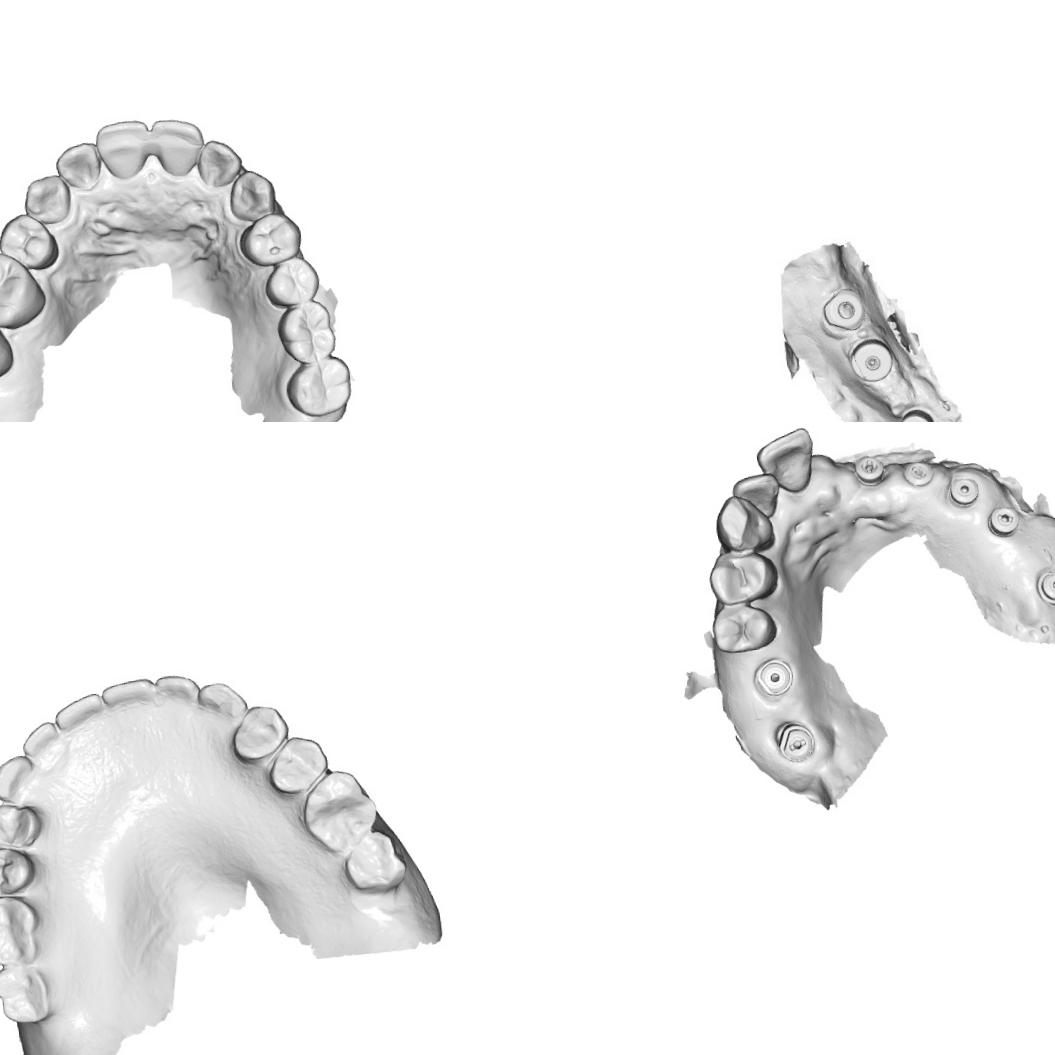canine: (711, 492, 778, 556), (194, 666, 248, 733), (20, 171, 75, 228), (225, 166, 279, 223), (0, 752, 48, 808)
implant: (848, 336, 896, 385), (820, 285, 868, 334), (750, 654, 796, 700), (946, 473, 982, 508), (1035, 568, 1055, 607), (896, 406, 937, 422)
implant_minus: (770, 718, 820, 765), (984, 502, 1026, 542), (901, 458, 935, 489)
implant_plus: (851, 452, 887, 488)
incisor: (752, 426, 818, 498), (93, 115, 154, 183), (149, 114, 209, 180), (97, 660, 158, 721), (52, 684, 109, 738), (52, 138, 105, 194), (195, 135, 246, 190), (17, 711, 68, 766), (729, 471, 783, 522), (152, 668, 204, 719)
molar: (292, 764, 384, 859), (336, 826, 412, 898), (281, 353, 355, 420), (0, 957, 63, 1030), (273, 299, 339, 368), (0, 247, 50, 333), (0, 891, 52, 973), (0, 303, 17, 386)
premolar: (704, 546, 780, 610), (227, 699, 297, 768), (266, 734, 331, 804), (235, 208, 306, 269), (0, 209, 61, 275), (709, 600, 780, 656), (260, 253, 323, 310), (0, 797, 46, 855), (0, 841, 39, 904)
